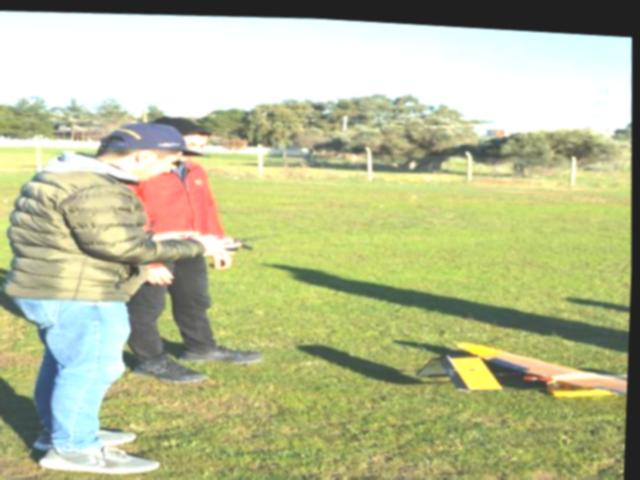iha: (427, 324, 631, 401)
